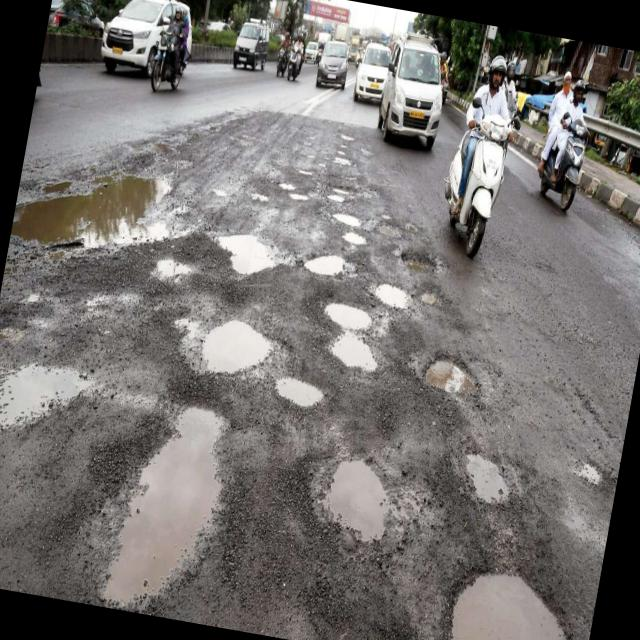Potholes: (87, 360, 245, 624), (7, 116, 224, 290), (426, 521, 592, 640), (300, 430, 411, 567), (0, 322, 106, 451), (185, 287, 282, 398), (312, 296, 392, 386), (452, 420, 522, 520), (208, 216, 300, 292), (411, 342, 494, 426), (559, 426, 620, 493), (296, 234, 354, 284), (396, 242, 448, 288), (408, 280, 452, 316)
